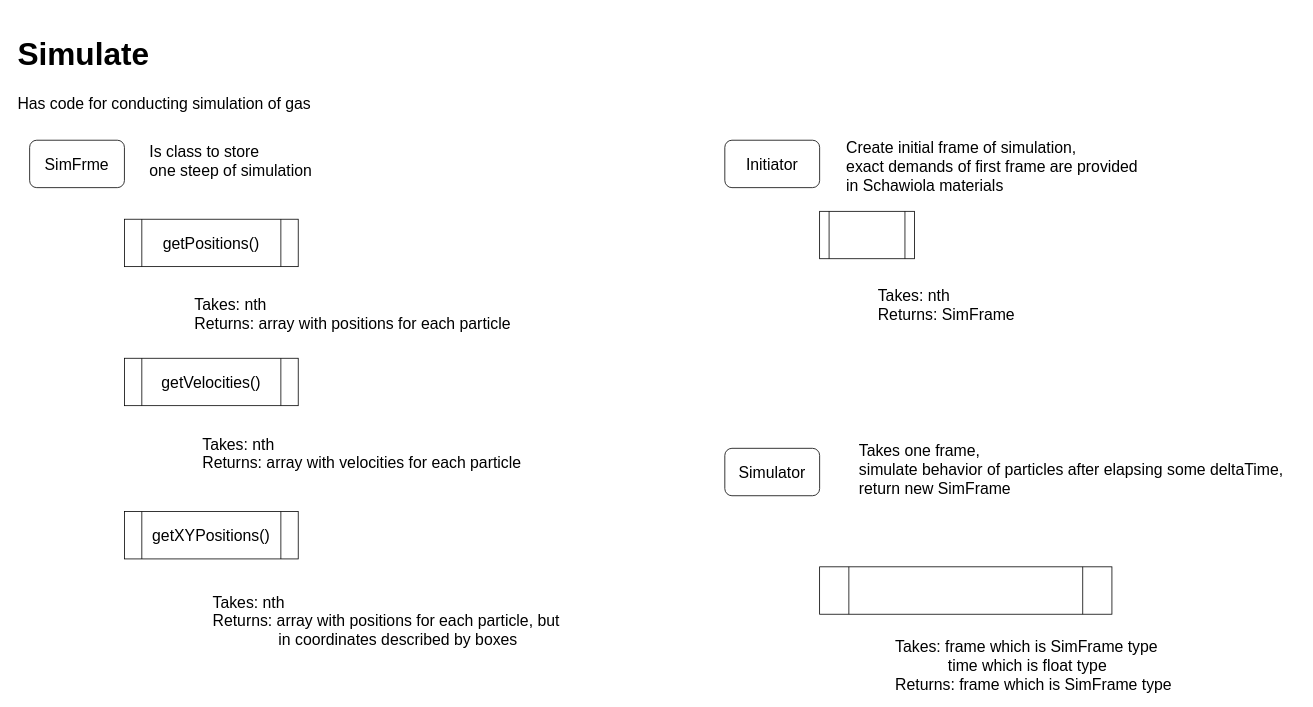
The diagram is 1313 pixels wide and 707 high, and some of its shapes have lost their labels. The shapes that lost their labels are listed below. From the top down, each one's centre as x and y in pixels, then its label:
At (x=866, y=235): "create()".
At (x=965, y=590): "simulate(frame: SimFrame deltaTime : float)".
